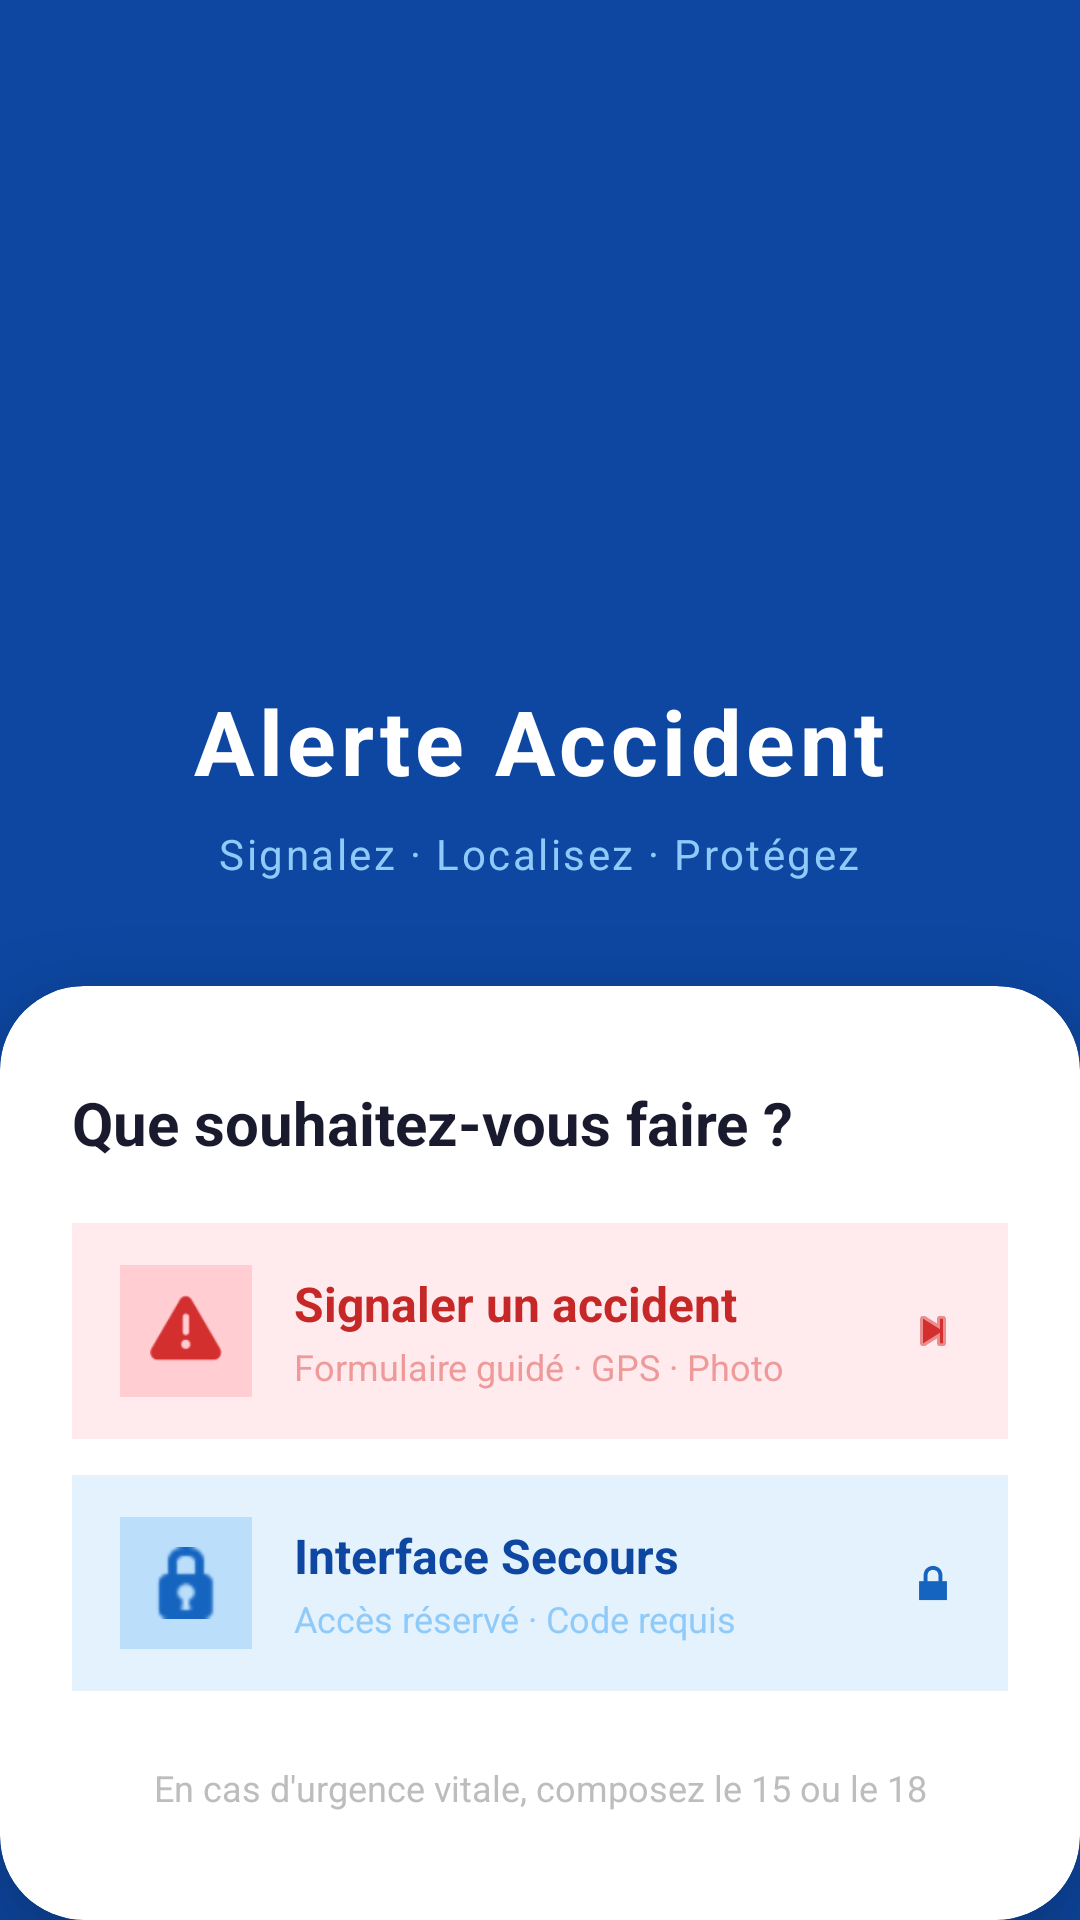

Screen size 1080×1920. Icon name, then its center in pixels as (x=x, y=y):
aller: (x=933, y=1331)
securisé: (x=933, y=1583)
